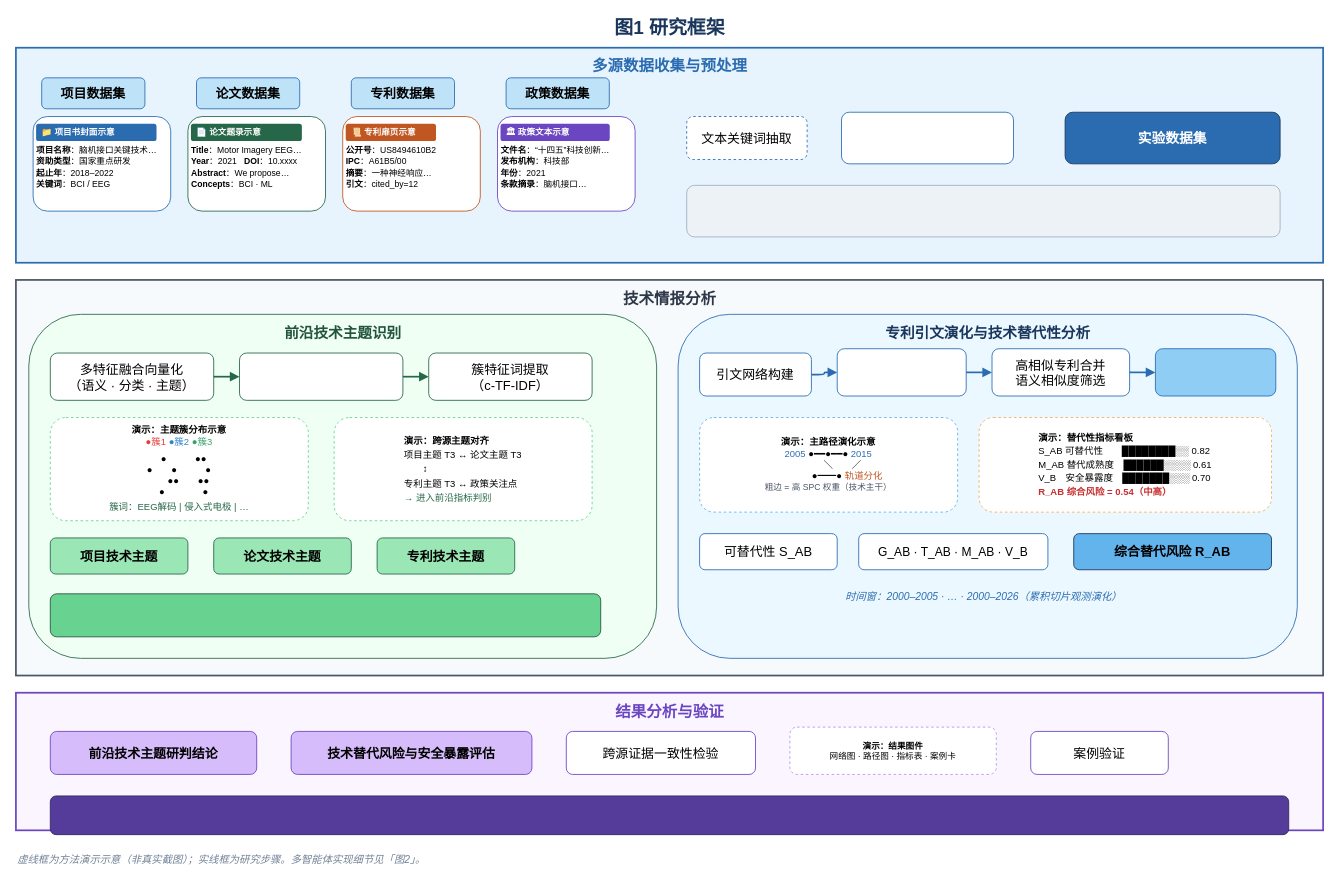
Some shapes in this 1338 by 882 pixel diagram are drawn without their labels. Here are the shapes that lost their labels. From the top down, the centre of each, then its label:
At (927,137): "数据预处理 去重 · 清洗 · 时间窗划分".
At (983,210): "示例字段表：公开号 | 标题 | 摘要 | IPC/学科 | 申请年 | 权利人 | 引文边 → 标准化入库".
At (321,376): "降维与聚类 （UMAP · K-means）".
At (901,372): "主路径识别 SPC · Key-Route".
At (1215,372): "知识图谱 功能·场景·原理".
At (325,615): "前沿技术识别指标体系 → 主题类型判别".
At (669,815): "研究结论：前沿主题识别 · 技术替代态势 · 技术安全风险研判".
